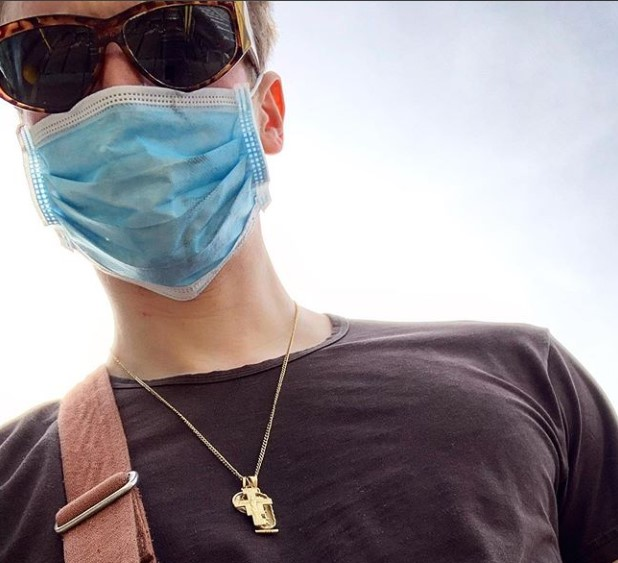face_with_mask: (1, 2, 286, 305)
